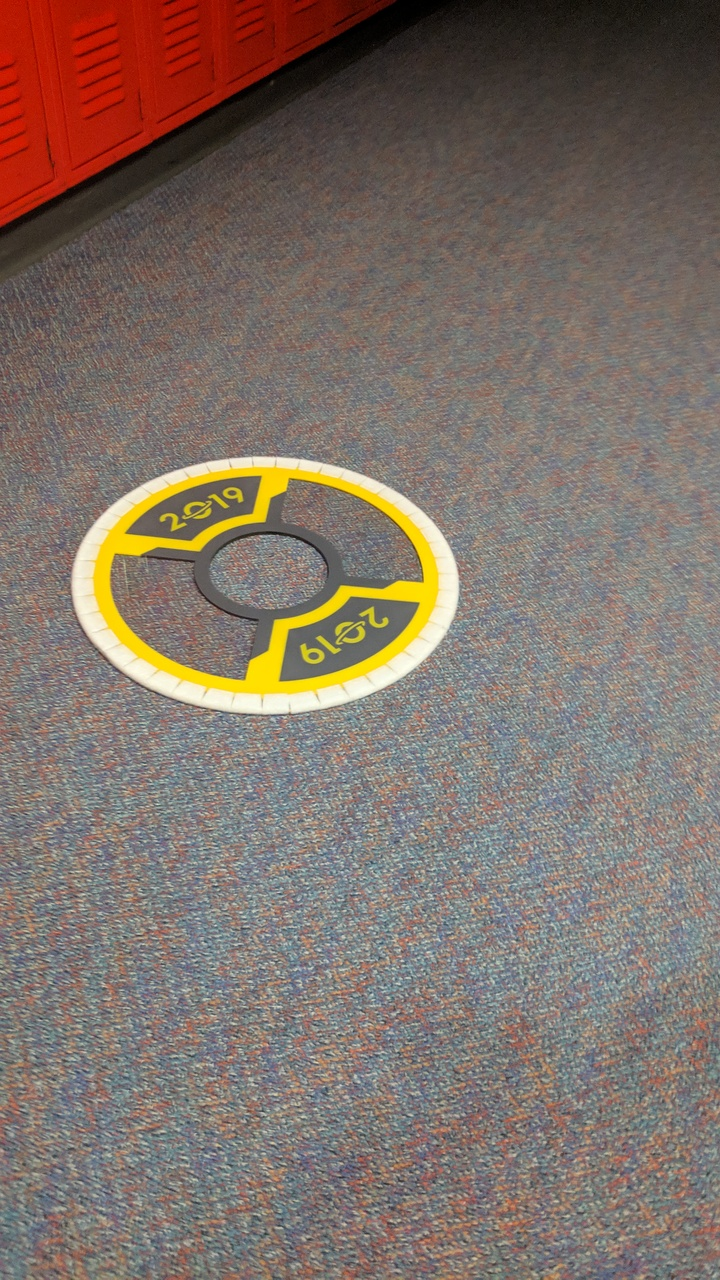hatch_panel: (65, 451, 484, 730)
